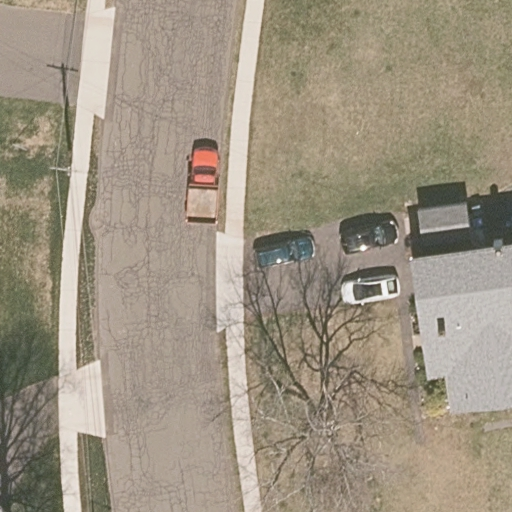DT: (49, 147, 94, 178)
